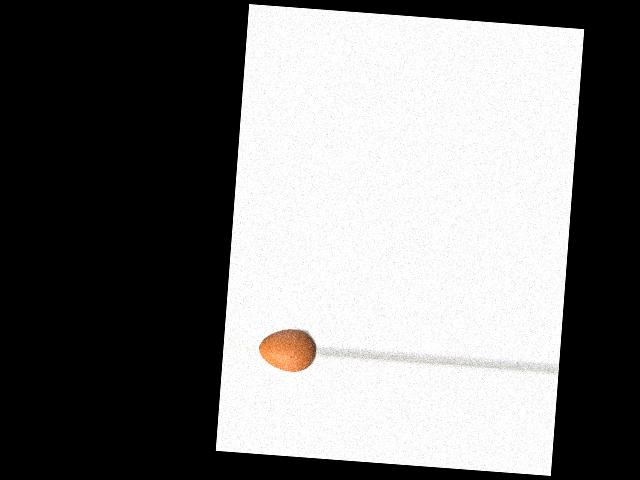egg: (258, 326, 317, 373)
